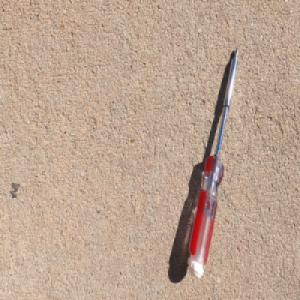Screwdriver: (186, 44, 240, 280)
